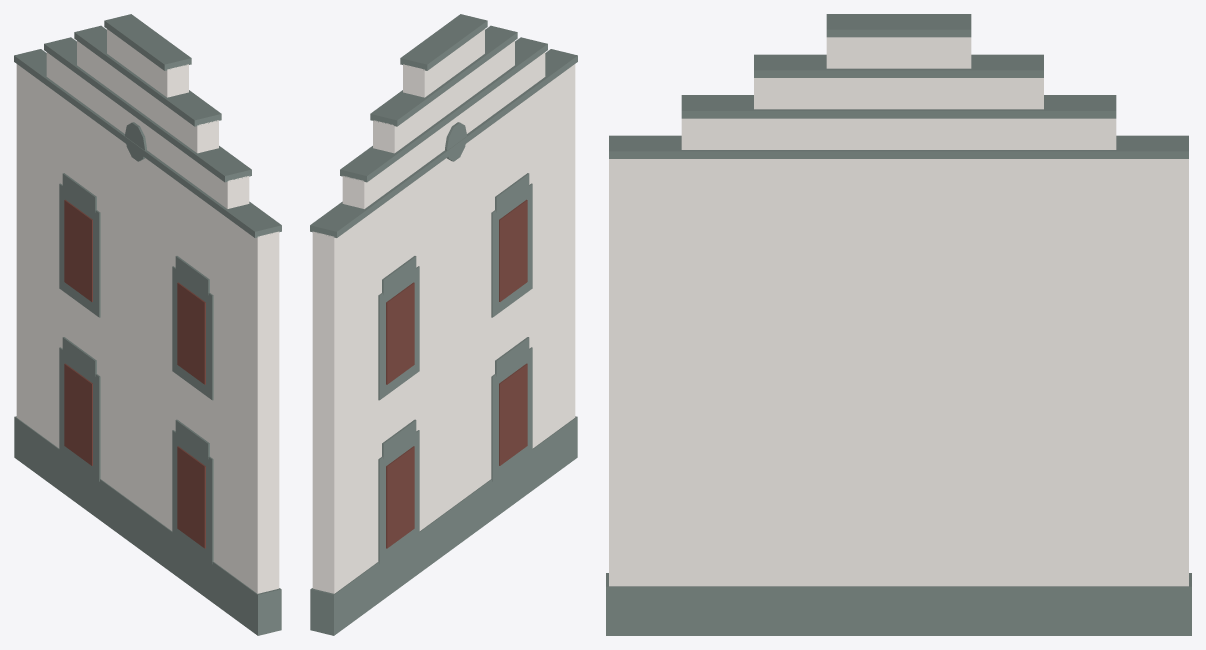
The model's file is SM_KitRemate_v1_LOD1.fbx.
3 renders of one model, left to right at view 1: azimuth 30°, elevation 25°; view 2: azimuth 150°, elevation 25°; view 3: azimuth 270°, elevation 25°, orthographic. The views are drawn at different scales.
Visible parts, largest first — view 1: SM_bloques.kit_remate_v1_LOD1; view 2: SM_bloques.kit_remate_v1_LOD1; view 3: SM_bloques.kit_remate_v1_LOD1.
Part boxes in pixels (<box>): SM_bloques.kit_remate_v1_LOD1: <box>14,14,281,635</box>; SM_bloques.kit_remate_v1_LOD1: <box>310,14,577,635</box>; SM_bloques.kit_remate_v1_LOD1: <box>606,14,1191,635</box>.
Bounding box in the file's own units: 0.62 × 11.09 × 9.7.
